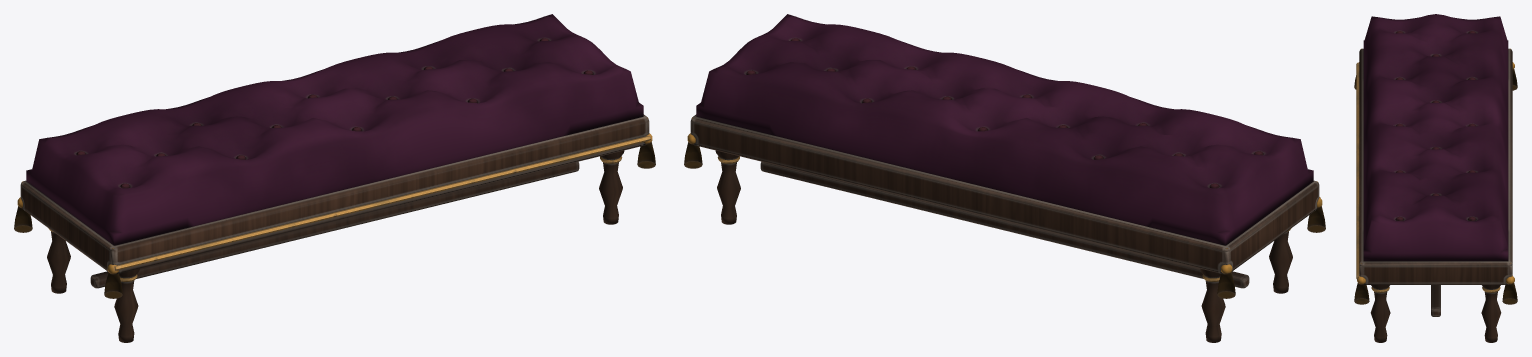
File: TuftedBench.fbx
3 renders of one model, left to right at view 1: azimuth 30°, elevation 25°; view 2: azimuth 150°, elevation 25°; view 3: azimuth 270°, elevation 25°, orthographic. The views are drawn at different scales.
Parts seen in each view (by area): view 1: TuftedBench; view 2: TuftedBench; view 3: TuftedBench.
Boxes of the visible parts, x1=… form: TuftedBench: x1=14, y1=14, x2=655, y2=342; TuftedBench: x1=684, y1=14, x2=1325, y2=342; TuftedBench: x1=1354, y1=14, x2=1517, y2=342.
Bounding box in the file's own units: 612 × 171 × 192.
